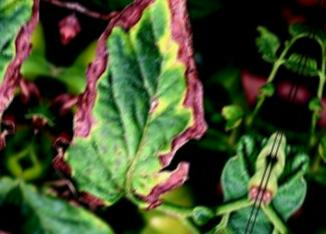Tomato leaf bacterial spot: (41, 0, 257, 231)
